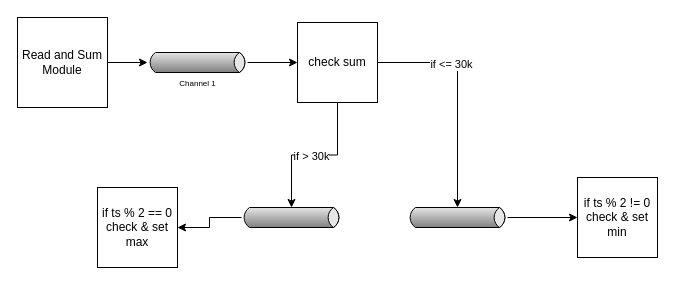
The diagram is 675 pixels wide and 285 high, and some of its shapes have lost their labels. Each missing label, with the box of its shape:
channel 2: (240, 206, 342, 228)
channel 3: (406, 206, 508, 228)
